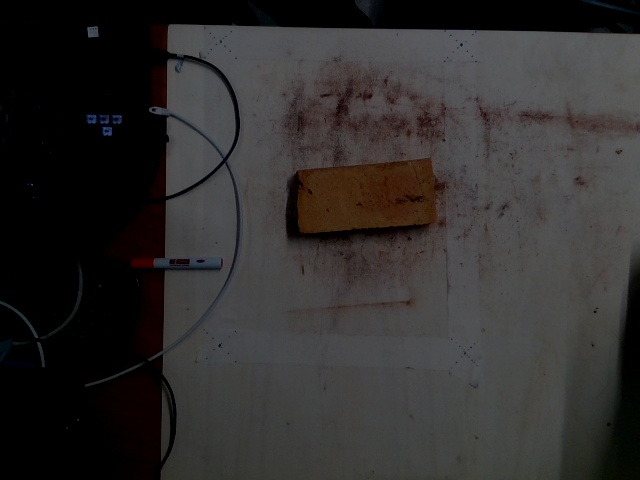brick: (295, 158, 433, 232)
